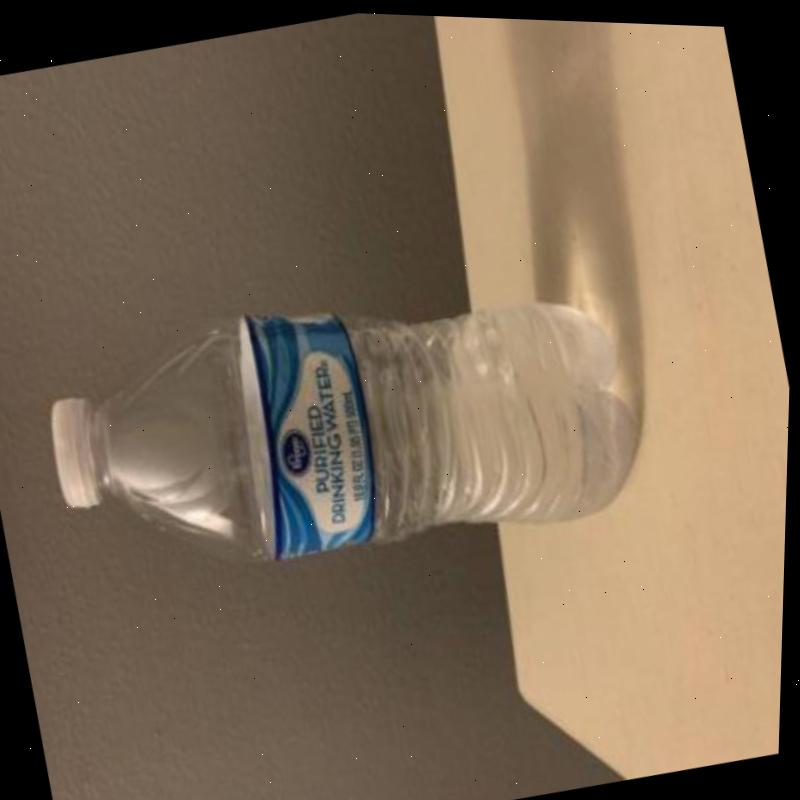botella: (26, 226, 659, 619)
